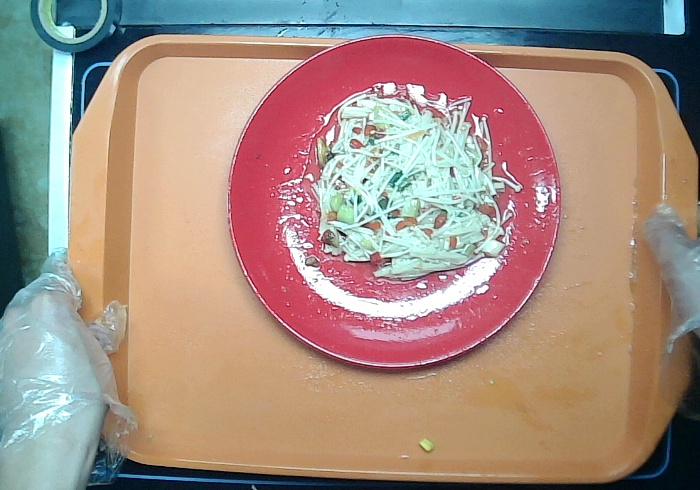HZYJPL-Hong_Se_Yuan_Pan: (227, 33, 562, 371)
